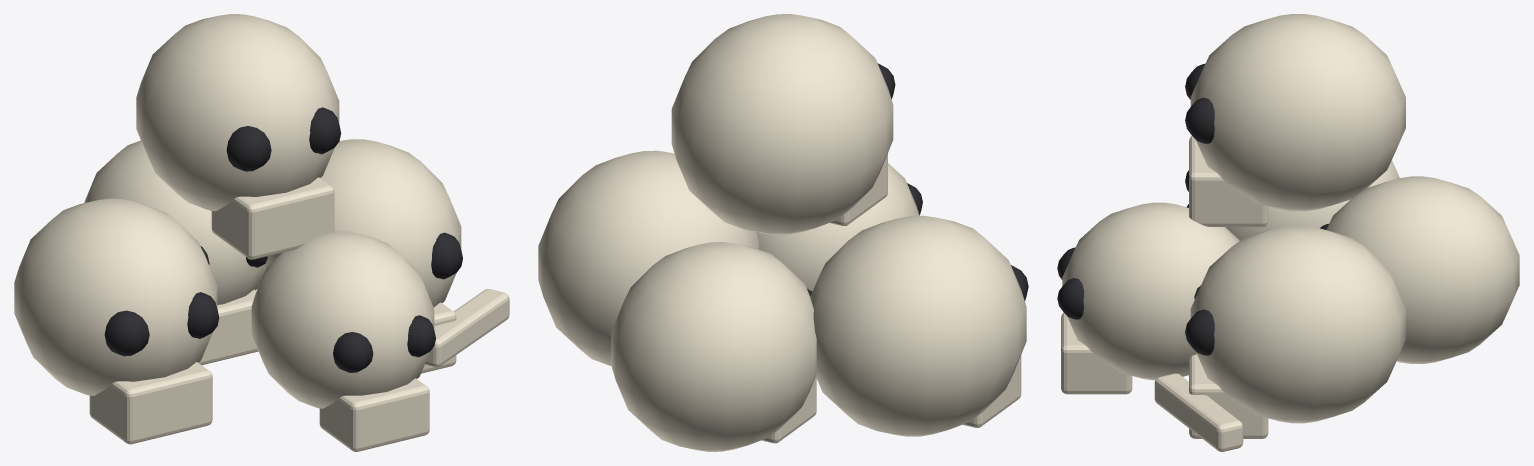
The model's file is skull_pile.glb.
3 views of the same model, side by side, from view 1: azimuth 30°, elevation 25°; view 2: azimuth 150°, elevation 25°; view 3: azimuth 270°, elevation 25° (orthographic). The views are drawn at different scales.
Parts seen in each view (by area): view 1: GD_skull_pile; view 2: GD_skull_pile; view 3: GD_skull_pile.
Part boxes in pixels (x1=…): GD_skull_pile: x1=14, y1=14, x2=509, y2=451; GD_skull_pile: x1=538, y1=14, x2=1028, y2=451; GD_skull_pile: x1=1057, y1=14, x2=1519, y2=451.
Bounding box in the file's own units: 0.2517 × 0.188 × 0.2328.
